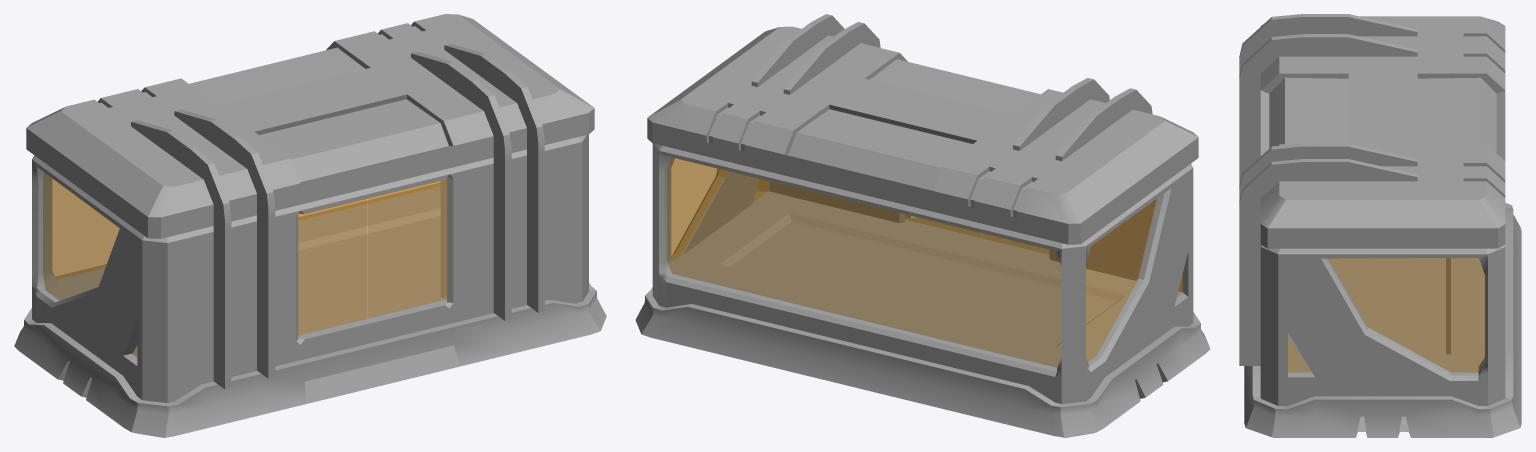
File: Assembleuse_Moduleuse.fbx
The picture shows the model from 3 angles, left to right: view 1: azimuth 30°, elevation 25°; view 2: azimuth 150°, elevation 25°; view 3: azimuth 270°, elevation 25°; orthographic projection. The views are drawn at different scales.
Visible parts, largest first — view 1: Assembleuse_Moduleuse; view 2: Assembleuse_Moduleuse; view 3: Assembleuse_Moduleuse.
Boxes of the visible parts, x1,y1,x2,y2 form: Assembleuse_Moduleuse: [14, 14, 606, 437]; Assembleuse_Moduleuse: [635, 14, 1210, 437]; Assembleuse_Moduleuse: [1239, 14, 1521, 437].
Size of the model in its own units: 4.27 by 2.18 by 2.31.
